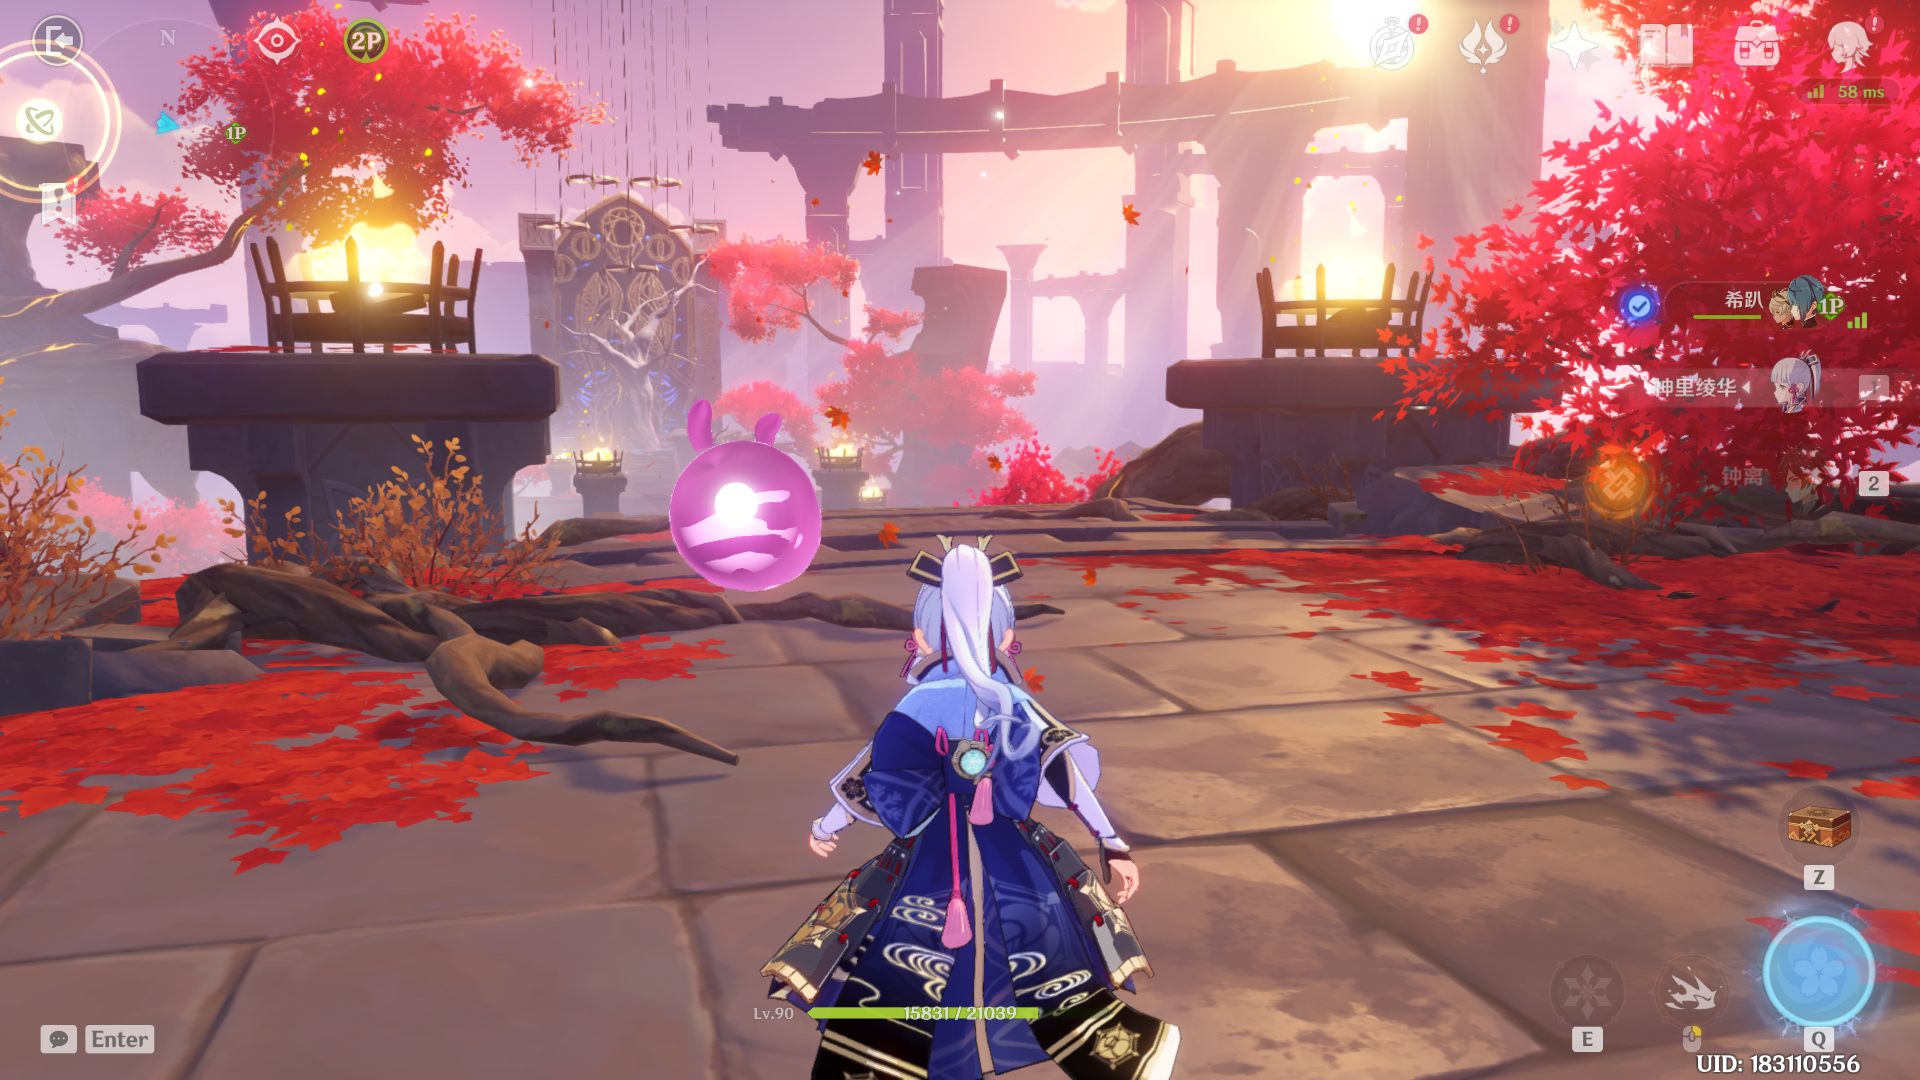character: (742, 517, 1189, 1080)
